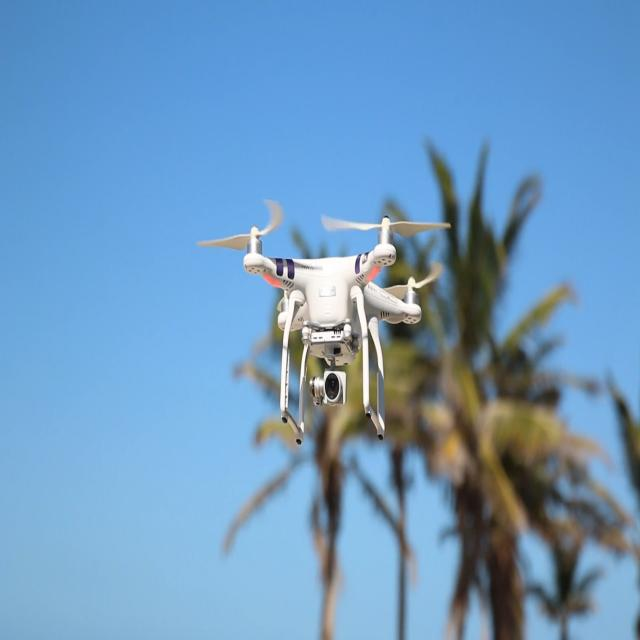Drone: (189, 188, 452, 457)
